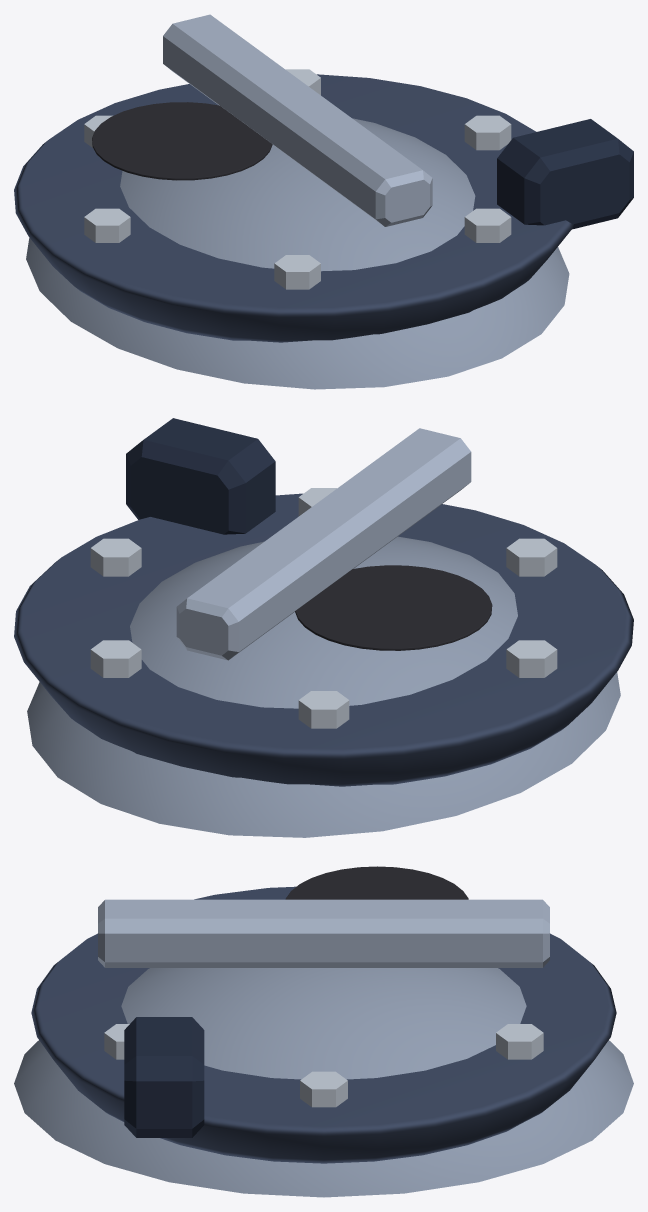
Rendered from enemy_carapace_plate.glb.
3 renders of one model, top to bottom at view 1: azimuth 30°, elevation 25°; view 2: azimuth 150°, elevation 25°; view 3: azimuth 270°, elevation 25°, orthographic. The views are drawn at different scales.
Visible parts, largest first — view 1: plate_backing, plate_dome, plate_ridge, plate_chip, plate_scorch, plate_rivet0, plate_rivet1, plate_rivet3, plate_rivet2; view 2: plate_backing, plate_dome, plate_ridge, plate_chip, plate_scorch, plate_rivet0, plate_rivet2, plate_rivet3, plate_rivet5, plate_rivet4; view 3: plate_dome, plate_backing, plate_ridge, plate_chip, plate_scorch, plate_rivet0, plate_rivet5, plate_rivet1.
Part boxes in pixels (x1,y1,x2,y2): plate_backing: [14, 74, 573, 342]; plate_dome: [26, 118, 569, 389]; plate_ridge: [163, 14, 432, 226]; plate_chip: [497, 119, 633, 229]; plate_scorch: [92, 102, 272, 180]; plate_rivet0: [464, 115, 511, 150]; plate_rivet1: [464, 208, 511, 242]; plate_rivet3: [84, 208, 130, 242]; plate_rivet2: [274, 255, 320, 289]; plate_backing: [14, 493, 633, 786]; plate_dome: [27, 536, 620, 837]; plate_ridge: [176, 428, 471, 660]; plate_chip: [126, 418, 275, 534]; plate_scorch: [295, 565, 492, 650]; plate_rivet0: [90, 538, 141, 576]; plate_rivet2: [506, 538, 557, 576]; plate_rivet3: [506, 640, 557, 677]; plate_rivet5: [90, 640, 141, 677]; plate_rivet4: [298, 691, 349, 728]; plate_dome: [14, 968, 633, 1197]; plate_backing: [31, 886, 616, 1163]; plate_ridge: [98, 899, 549, 967]; plate_chip: [124, 1017, 204, 1137]; plate_scorch: [285, 866, 468, 899]; plate_rivet0: [300, 1071, 347, 1107]; plate_rivet5: [496, 1024, 543, 1059]; plate_rivet1: [104, 1024, 129, 1059].
Bounding box in the file's own units: 0.44 × 0.1447 × 0.4661.
